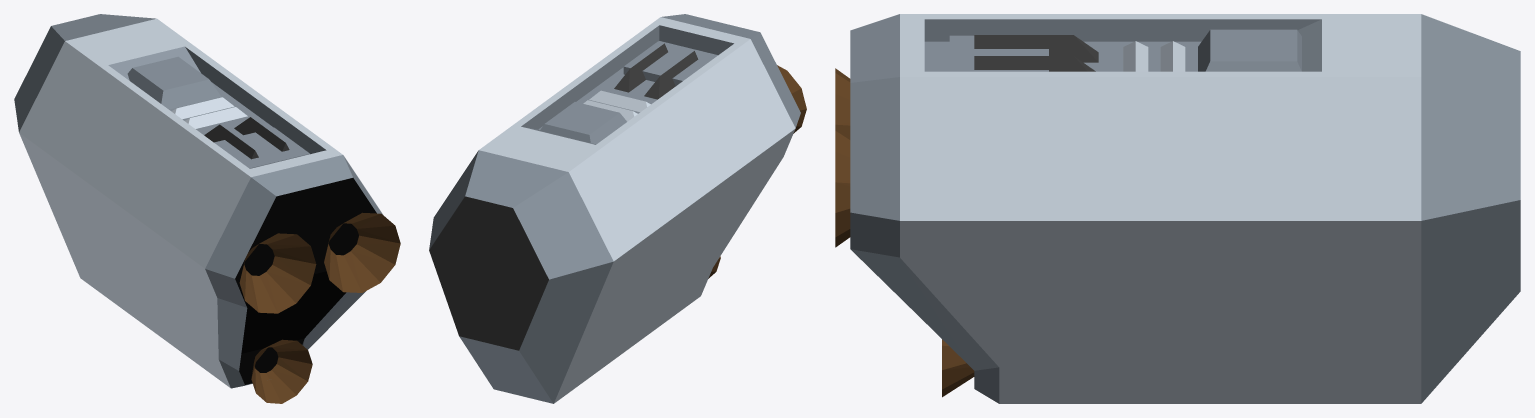
File: engine.FBX
The picture shows the model from 3 angles, left to right: view 1: azimuth 30°, elevation 25°; view 2: azimuth 150°, elevation 25°; view 3: azimuth 270°, elevation 25°; orthographic projection. The views are drawn at different scales.
Parts seen in each view (by area): view 1: VIFS003, VIFS001, VIFS004, VIFS005, VIFS006, VIFS002; view 2: VIFS003, VIFS001, VIFS002, VIFS004; view 3: VIFS003, VIFS001, VIFS004, VIFS002.
Boxes of the visible parts, left/top/right/bottom form: VIFS003: left=19, top=18, right=342, bottom=388; VIFS001: left=14, top=14, right=382, bottom=388; VIFS004: left=239, top=212, right=400, bottom=403; VIFS005: left=235, top=178, right=376, bottom=384; VIFS006: left=244, top=223, right=358, bottom=372; VIFS002: left=204, top=117, right=289, bottom=159; VIFS003: left=479, top=17, right=795, bottom=403; VIFS001: left=429, top=14, right=800, bottom=403; VIFS002: left=429, top=43, right=698, bottom=350; VIFS004: left=708, top=65, right=806, bottom=278; VIFS003: left=900, top=14, right=1421, bottom=403; VIFS001: left=850, top=14, right=1520, bottom=403; VIFS004: left=835, top=68, right=974, bottom=397; VIFS002: left=974, top=35, right=1098, bottom=71.
Size of the model in its own units: 0.24 by 0.31 by 0.552.
